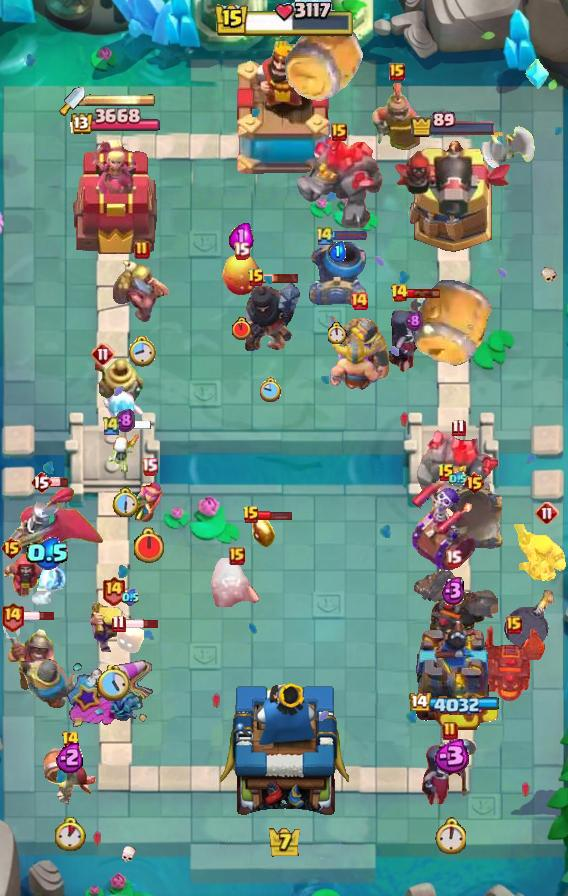archer: (134, 481, 164, 525)
axe: (480, 113, 536, 171)
bandit: (211, 555, 263, 607)
bar: (123, 618, 160, 630), (19, 610, 56, 622), (263, 272, 300, 284), (332, 230, 368, 241), (258, 510, 293, 521), (406, 288, 441, 299), (119, 420, 152, 430), (50, 477, 69, 488)
bar-level: (0, 601, 25, 632), (101, 575, 126, 606), (535, 501, 559, 525), (91, 342, 115, 366), (0, 536, 23, 560), (463, 471, 486, 495), (30, 470, 52, 494), (101, 415, 121, 436), (315, 225, 335, 246), (349, 291, 369, 311), (61, 730, 80, 750), (390, 283, 409, 303), (242, 505, 260, 525), (437, 463, 455, 483), (247, 268, 265, 288), (445, 549, 462, 568), (141, 457, 158, 476), (233, 241, 250, 260), (442, 721, 458, 741), (134, 240, 150, 260), (506, 616, 522, 634), (229, 547, 245, 565), (331, 123, 347, 141), (389, 63, 405, 81), (111, 614, 126, 633), (451, 418, 466, 437)
barbarian-evolution: (514, 524, 568, 581), (87, 602, 139, 652)
bomb: (503, 588, 554, 650)
cannoneer-tower: (392, 138, 514, 256)
clock: (132, 527, 166, 565), (97, 665, 130, 701), (434, 817, 466, 854), (55, 817, 86, 851), (128, 336, 156, 368), (111, 487, 139, 518), (260, 377, 282, 402), (232, 317, 251, 340), (328, 322, 347, 344)
dagger-duchess-tower: (70, 138, 158, 256)
dagger-duchess-tower-bar: (85, 93, 155, 107)
elite-barbarian: (327, 339, 383, 393)
elixir: (26, 537, 70, 570), (429, 739, 471, 773), (56, 741, 85, 773), (229, 221, 254, 253), (441, 575, 466, 606), (115, 408, 135, 433), (405, 310, 423, 332), (329, 241, 346, 262), (122, 589, 139, 606), (449, 471, 467, 487)
fire-spirit: (115, 623, 145, 655), (251, 513, 277, 549)
ice-spirit: (27, 555, 69, 607), (101, 389, 143, 427)
ice-spirit-evolution-symbol: (524, 58, 550, 90)
king-tower: (220, 678, 349, 826), (228, 41, 340, 181)
king-tower-bar: (213, 0, 355, 40)
knight: (329, 316, 390, 380), (21, 658, 81, 709)
miner: (0, 616, 58, 694), (113, 258, 171, 326)
mortar: (442, 486, 506, 552), (307, 241, 367, 305)
night-witch: (386, 292, 442, 374), (420, 733, 480, 807)
phoenix-egg: (221, 253, 261, 297)
queen-tower: (405, 617, 501, 731)
royal-recruit: (372, 83, 422, 151)
skeleton: (107, 429, 143, 473)
tower-bar: (68, 108, 160, 137), (410, 111, 497, 138), (407, 693, 499, 716)
wall-breaker: (42, 747, 98, 807)
wizard: (0, 551, 52, 603)
zappy: (95, 357, 143, 405)
